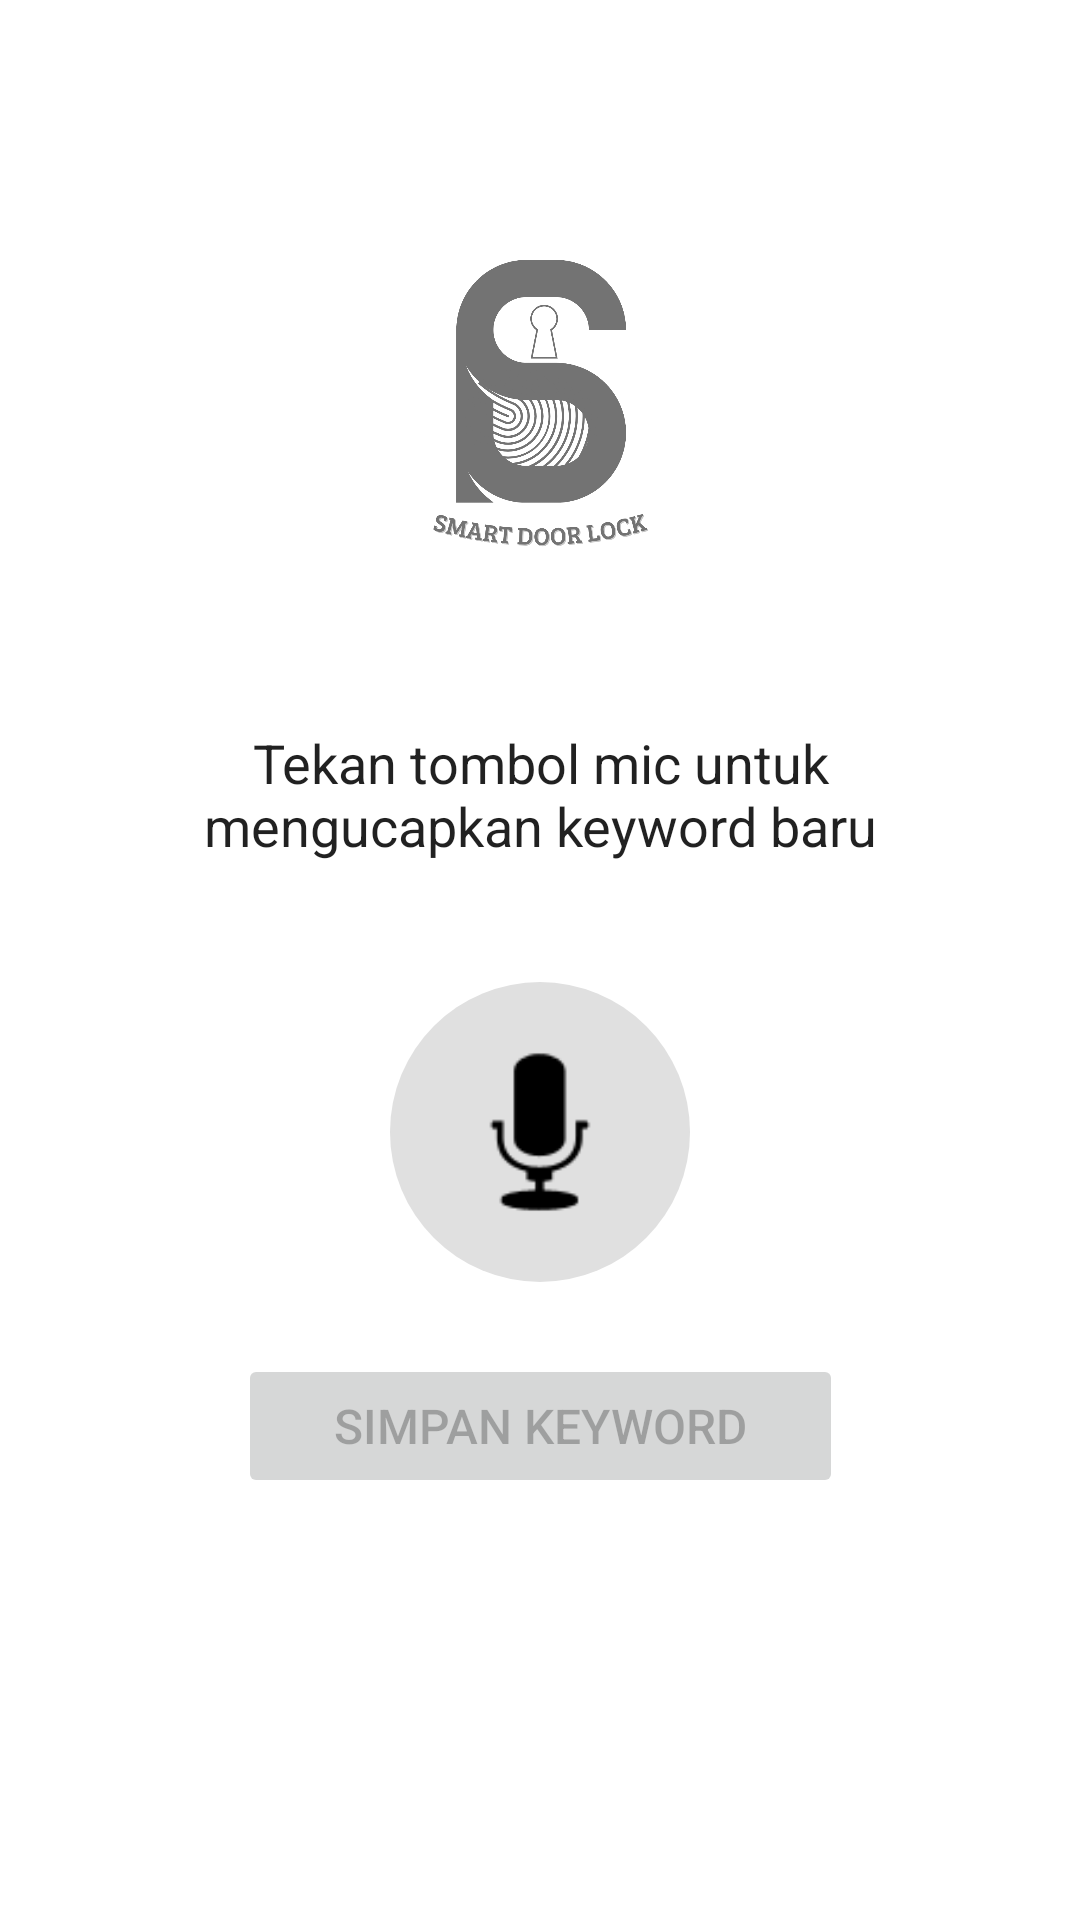

Where icons sit on this 1080*1920 app screen, as box=[x1, y1, x2, y2]:
Rekam Suara: box=[390, 982, 690, 1282]
